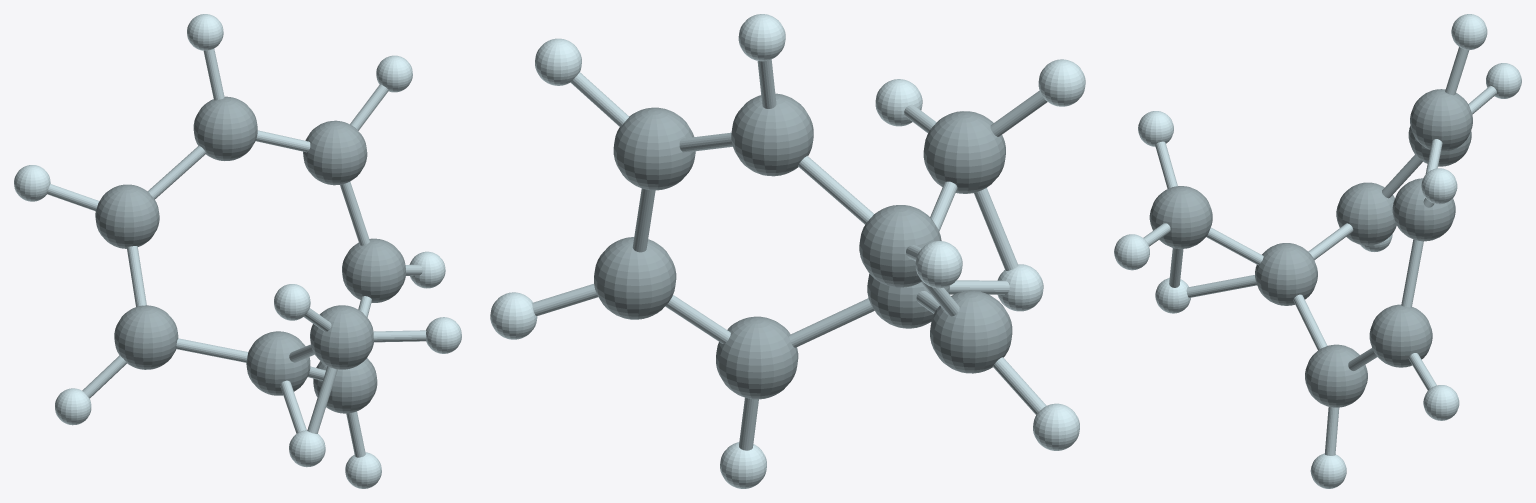
File: irc_step_270.glb
3 views of the same model, side by side, from view 1: azimuth 30°, elevation 25°; view 2: azimuth 150°, elevation 25°; view 3: azimuth 270°, elevation 25° (orthographic). The views are drawn at different scales.
Visible parts, largest first — view 1: Renderer Node; view 2: Renderer Node; view 3: Renderer Node.
Part boxes in pixels (x1,y1,x2,y2): Renderer Node: (14,14,461,488); Renderer Node: (490,14,1085,488); Renderer Node: (1114,14,1521,488).
Bounding box in the file's own units: 5.26 × 5.26 × 4.52.
